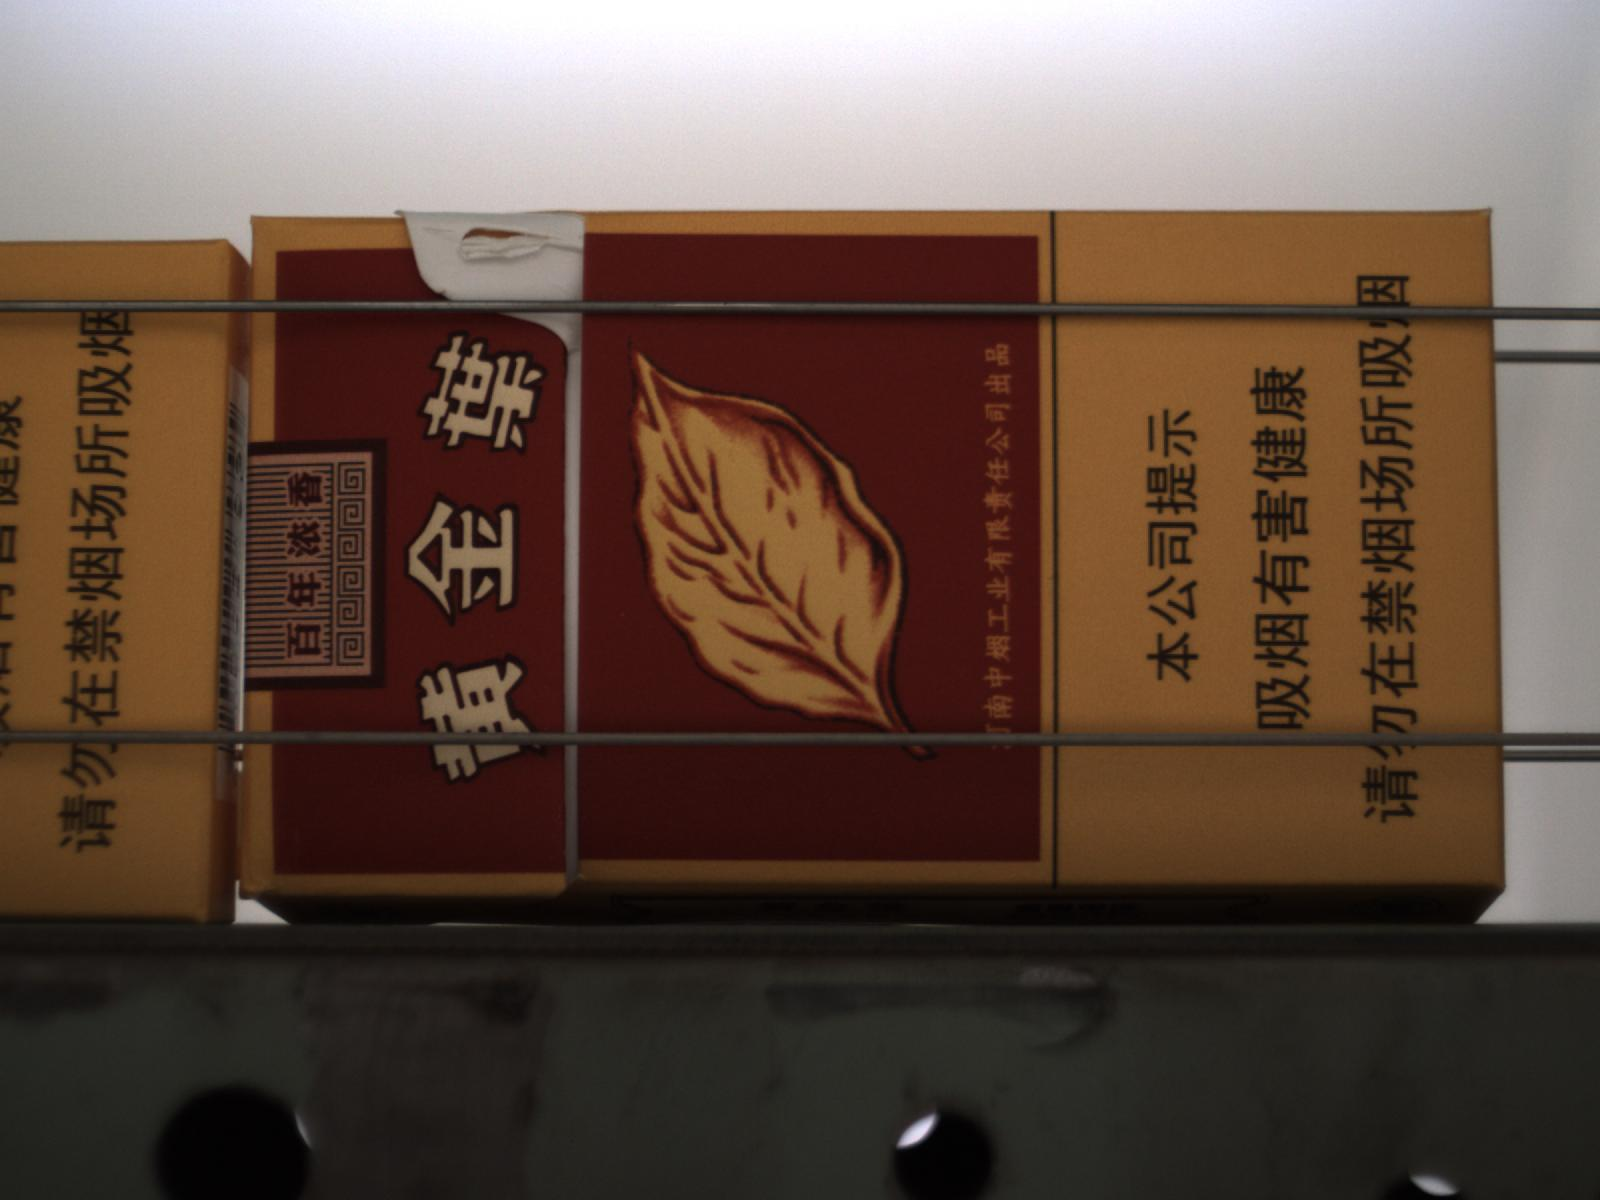frame: (239, 894, 559, 926)
skewed_upper_2: (393, 207, 586, 300)
